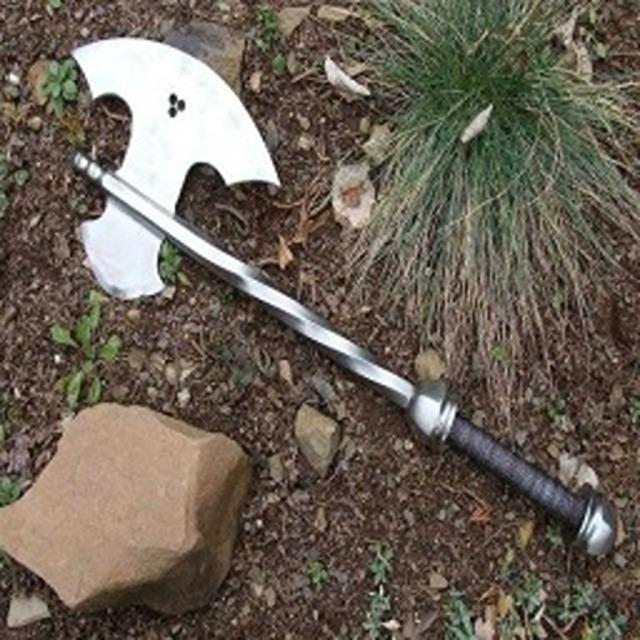ax: (67, 32, 627, 562)
